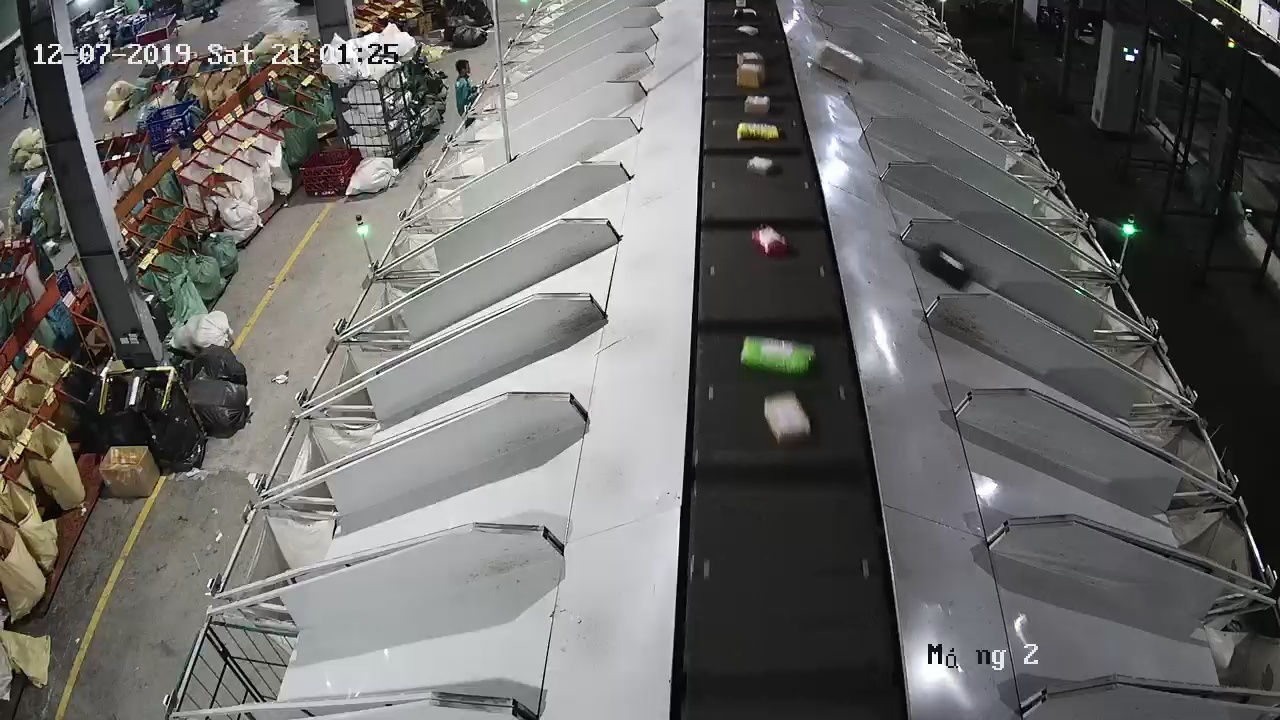parcel: (920, 243, 969, 291)
